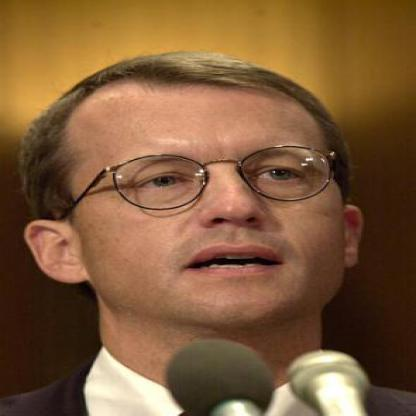face: (58, 53, 356, 337)
